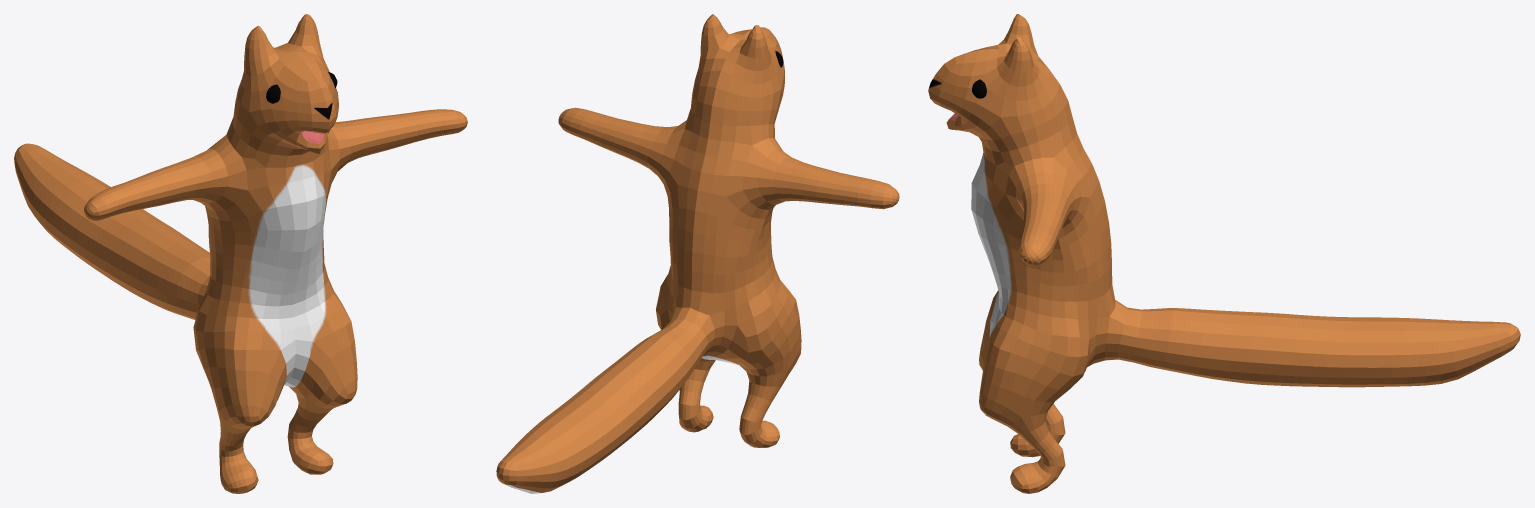
File: Unwrapped_squirrel 1.fbx
3 renders of one model, left to right at view 1: azimuth 30°, elevation 25°; view 2: azimuth 150°, elevation 25°; view 3: azimuth 270°, elevation 25°, orthographic. The views are drawn at different scales.
Parts seen in each view (by area): view 1: squirle:Group25804; view 2: squirle:Group25804; view 3: squirle:Group25804.
Boxes of the visible parts, x1,y1,x2,y2 form: squirle:Group25804: (14, 14, 467, 493); squirle:Group25804: (496, 14, 899, 493); squirle:Group25804: (928, 14, 1520, 493).
Bounding box in the file's own units: 3.05 × 3.56 × 4.28.
